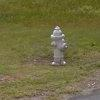Hydrant: (38, 21, 73, 66)
